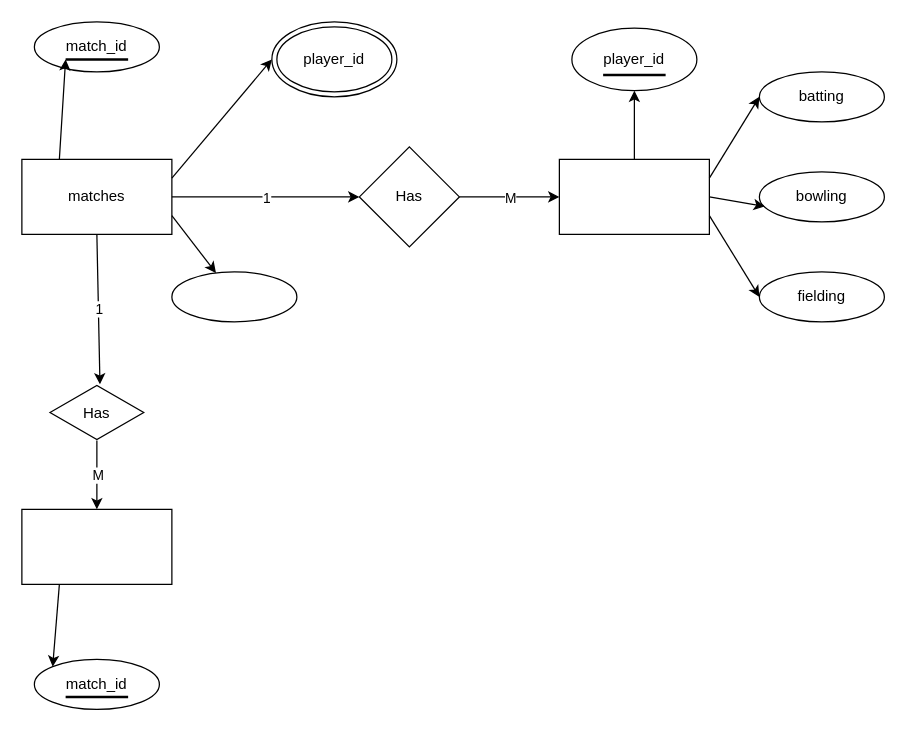
This 906x731 diagram has some shape labels left out. The centre of each missing label's shape, as x and y in pixels:
"deliveries" goes at pixel 96 546.
"players" goes at pixel 633 196.
"winner" goes at pixel 234 296.
